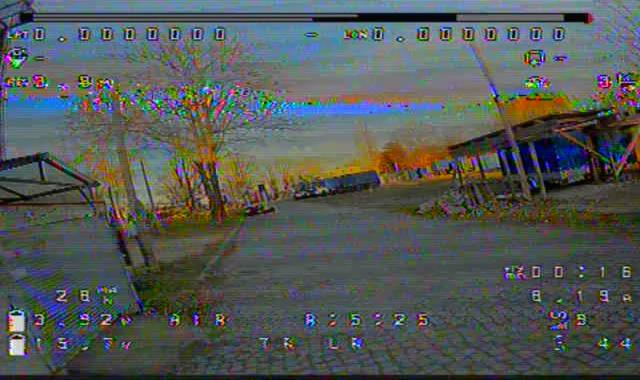truck: (294, 164, 396, 202)
